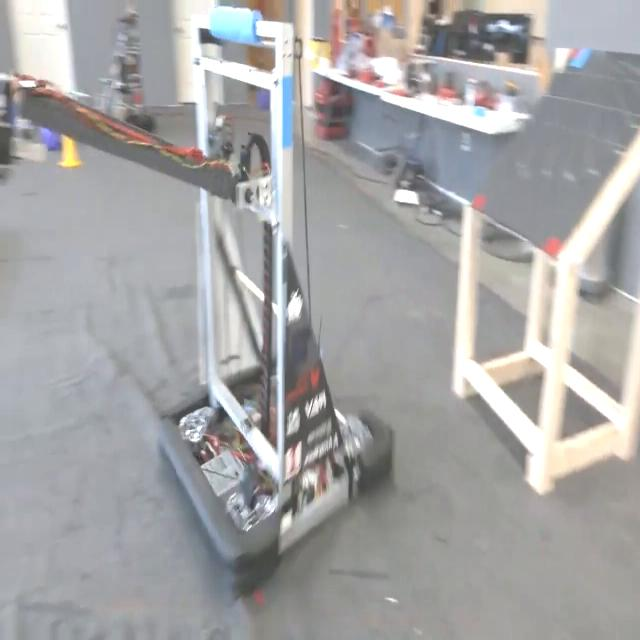frc_cone: (60, 121, 84, 170)
frc_cube: (41, 112, 59, 154)
